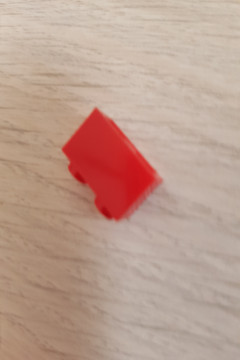1x2 red: (61, 106, 168, 224)
